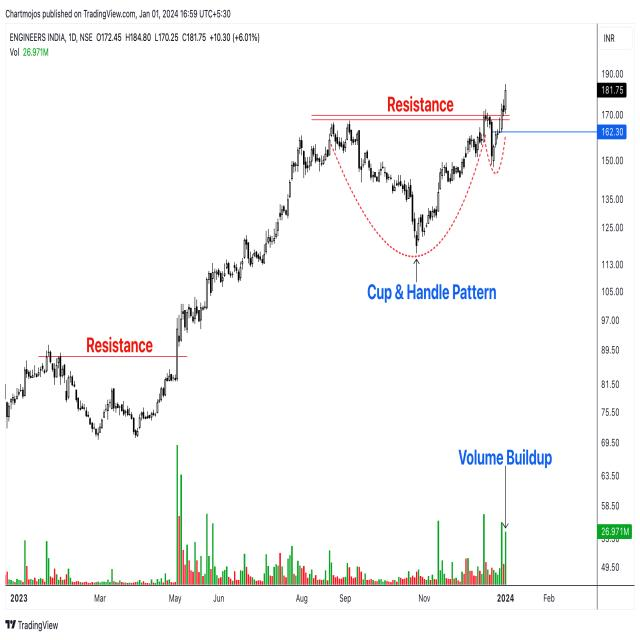Cup-and-handle: (319, 112, 517, 258)
